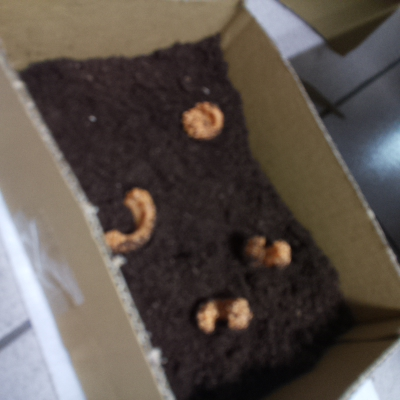eggs: (96, 180, 161, 260), (189, 292, 255, 335), (175, 93, 227, 145), (240, 228, 297, 275)
